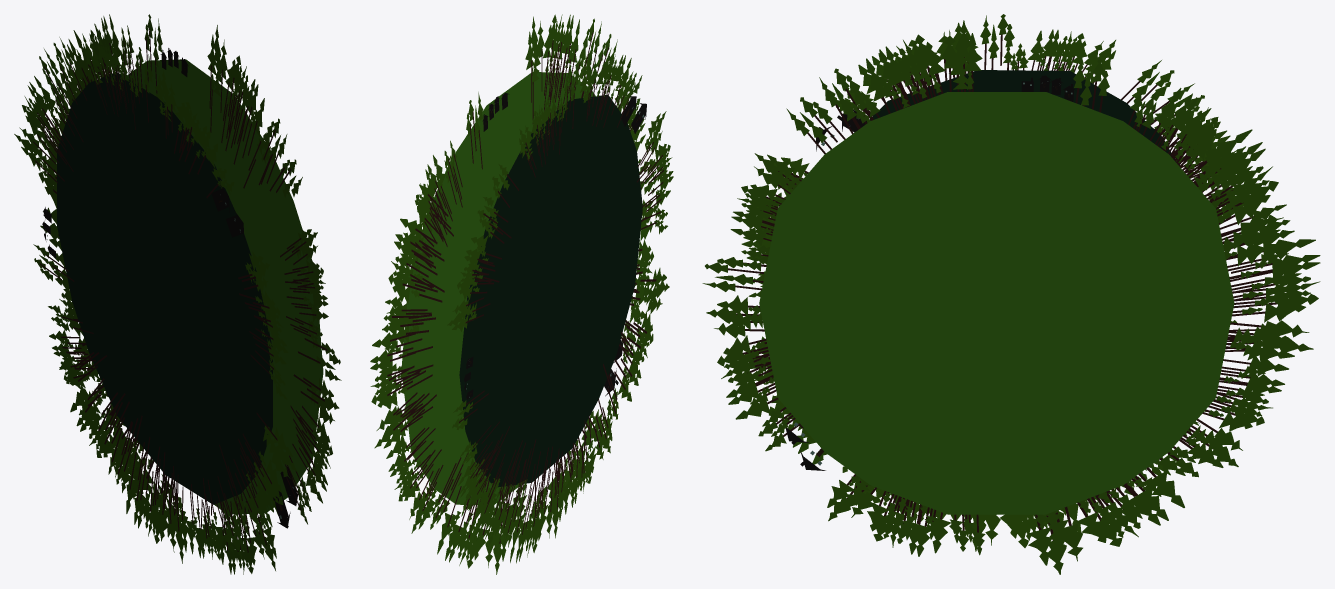
Rendered from Fore_ground.fbx.
3 views of the same model, side by side, from view 1: azimuth 30°, elevation 25°; view 2: azimuth 150°, elevation 25°; view 3: azimuth 270°, elevation 25° (orthographic). The views are drawn at different scales.
Visible parts, largest first — view 1: Plane; view 2: Plane; view 3: Plane.
Boxes of the visible parts, x1=… form: Plane: x1=14, y1=14, x2=341, y2=574; Plane: x1=370, y1=14, x2=673, y2=574; Plane: x1=702, y1=14, x2=1320, y2=574.
Size of the model in its own units: 285 by 2146 by 2150.
